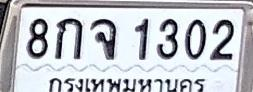0: (184, 18, 206, 60)
1: (134, 18, 149, 60)
2: (210, 18, 234, 60)
3: (156, 18, 178, 60)
8: (26, 18, 48, 59)
A01: (54, 16, 82, 60)
A08: (90, 18, 117, 60)
BKK: (45, 75, 207, 92)
